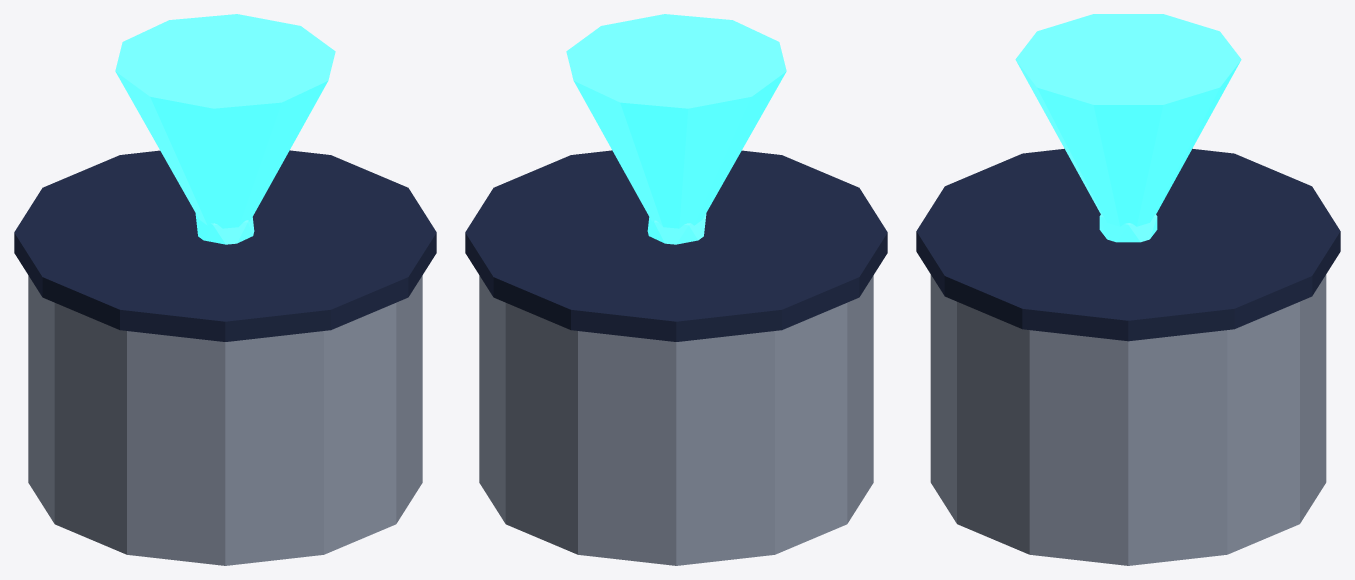
Rendered from stationpack-holo-table.glb.
3 renders of one model, left to right at view 1: azimuth 30°, elevation 25°; view 2: azimuth 150°, elevation 25°; view 3: azimuth 270°, elevation 25°, orthographic.
Parts seen in each view (by area): view 1: holo_table; view 2: holo_table; view 3: holo_table.
Boxes of the visible parts, x1=… form: holo_table: x1=14, y1=14, x2=436, y2=565; holo_table: x1=465, y1=14, x2=887, y2=565; holo_table: x1=916, y1=14, x2=1340, y2=565.
Size of the model in its own units: 1.5 by 1.65 by 1.5.
